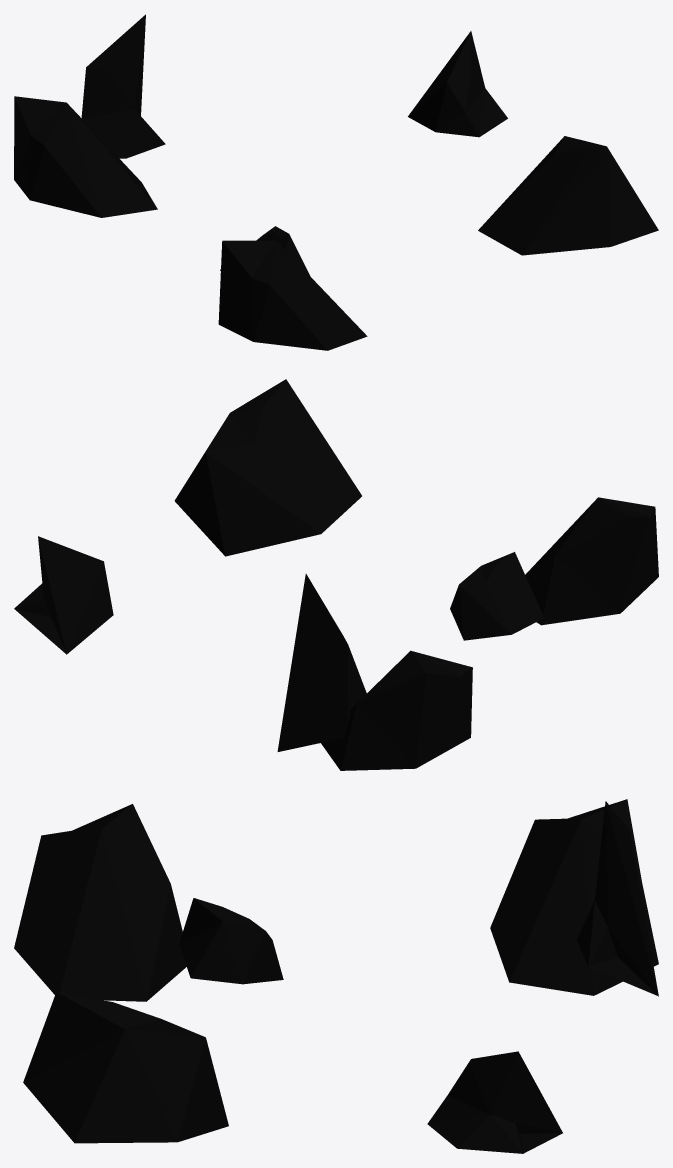
File: desert_plane_rock03.FBX
3 views of the same model, one above another, from view 1: azimuth 30°, elevation 25°; view 2: azimuth 150°, elevation 25°; view 3: azimuth 270°, elevation 25° (orthographic). The views are drawn at different scales.
Visible parts, largest first — view 1: rock005; view 2: rock005; view 3: rock005.
Boxes of the visible parts, x1,y1,x2,y2 form: rock005: (14, 14, 658, 350); rock005: (14, 379, 658, 770); rock005: (14, 799, 658, 1153).
Size of the model in its own units: 30.76 by 10.67 by 31.08.
1 material, 1 textured.
